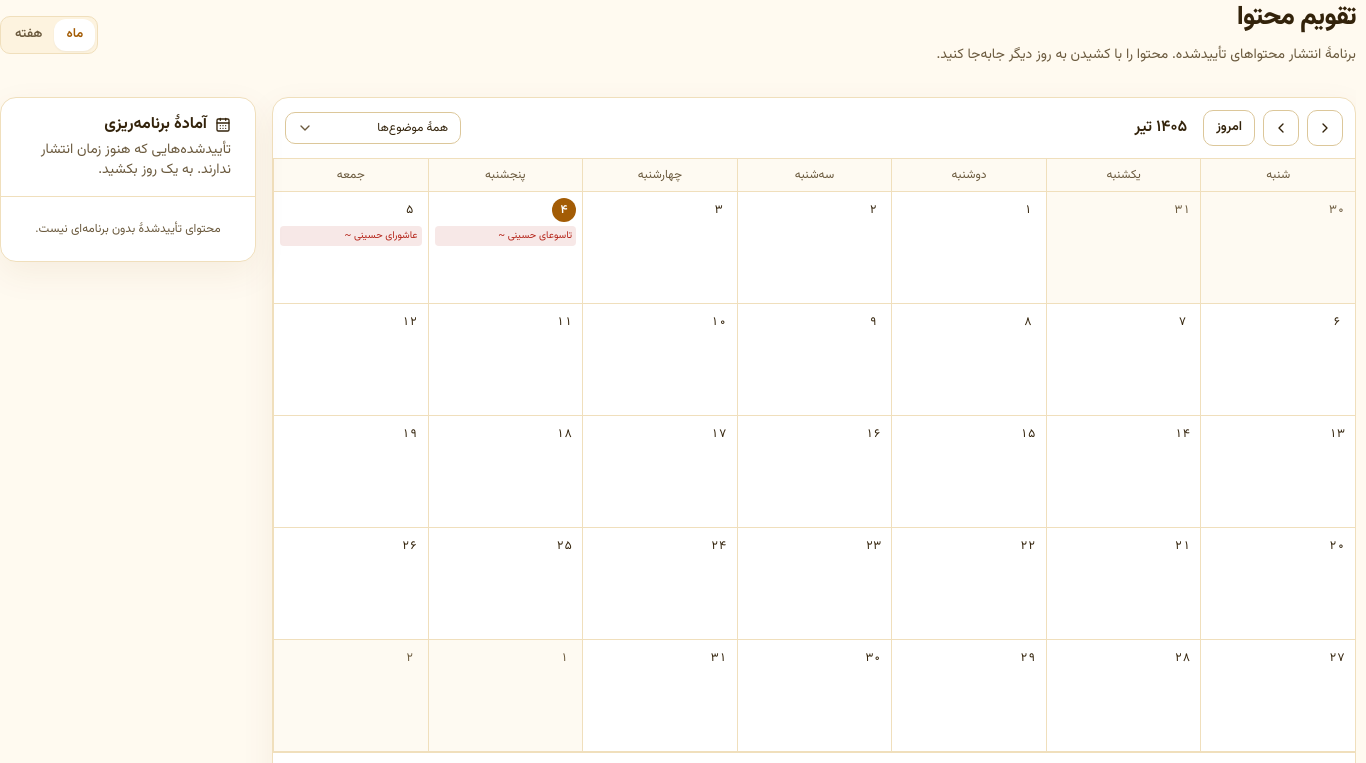
Scenario: CalendarView › warns on a day of mourning
Step 1. Click the button with test id "occasion-chip" showing "عاشورای حسینی ~" → (351, 236), box x1=280 y1=226 x2=422 y2=246
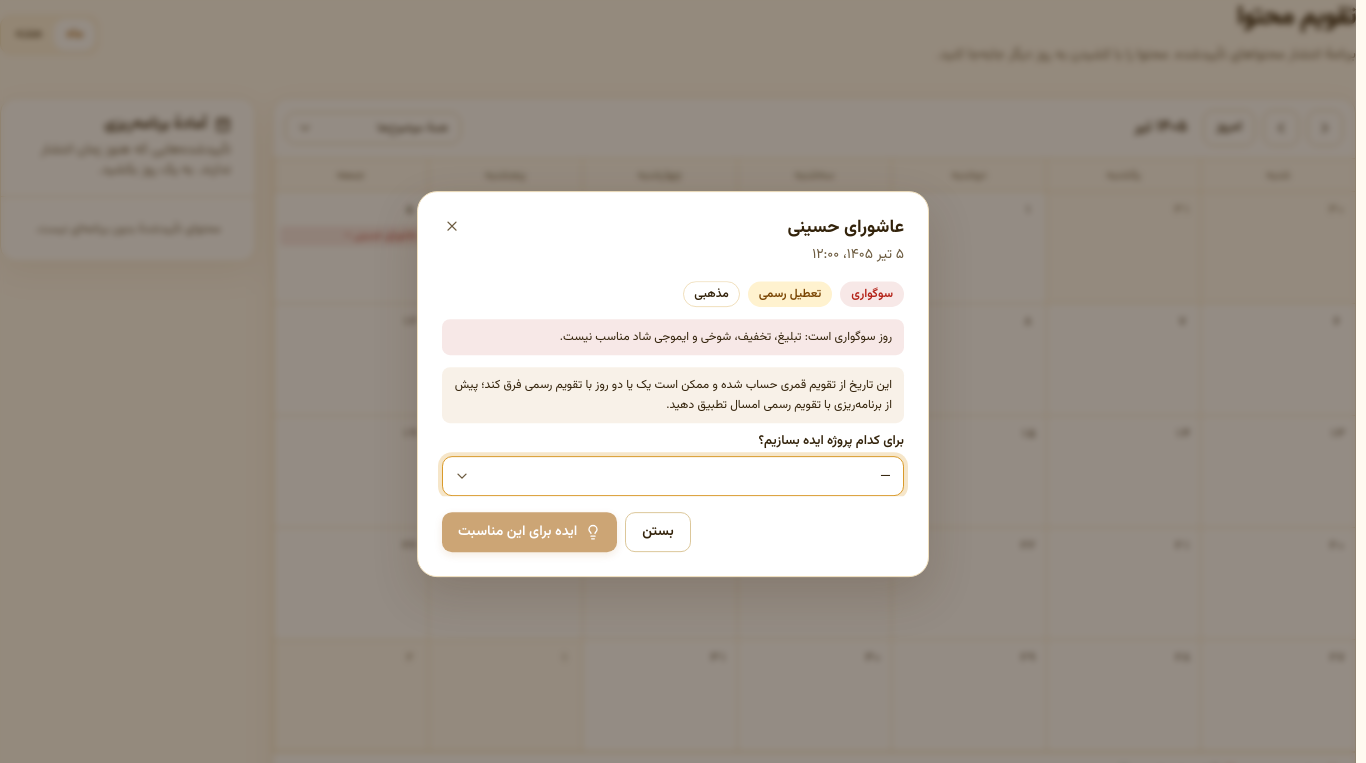
Now the text "روز سوگواری است: تبلیغ، تخفیف، شوخی و ایموجی شاد مناسب نیست." is shown, box x1=442 y1=319 x2=904 y2=355
Now the text "ممکن است یک یا دو روز" is shown, box x1=455 y1=376 x2=892 y2=414
